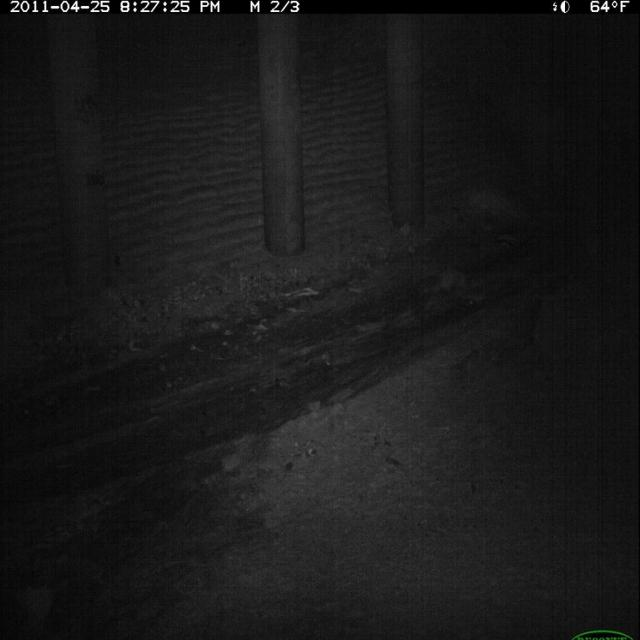opossum: (425, 266, 469, 303)
